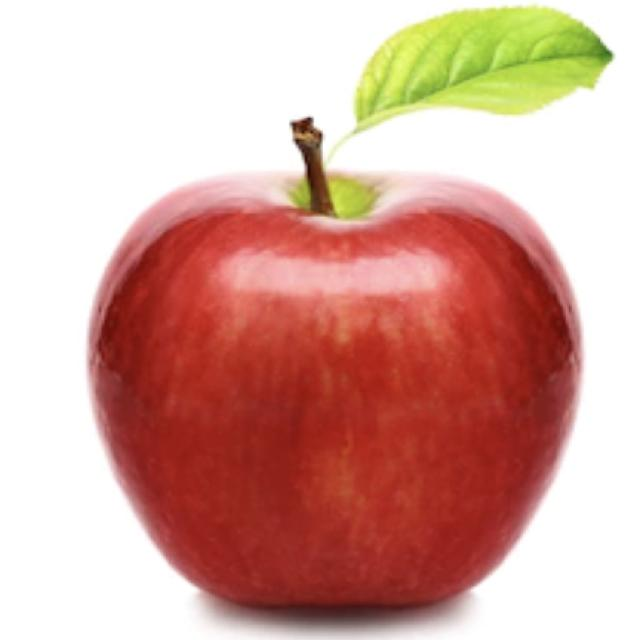Apel: (82, 160, 581, 630)
